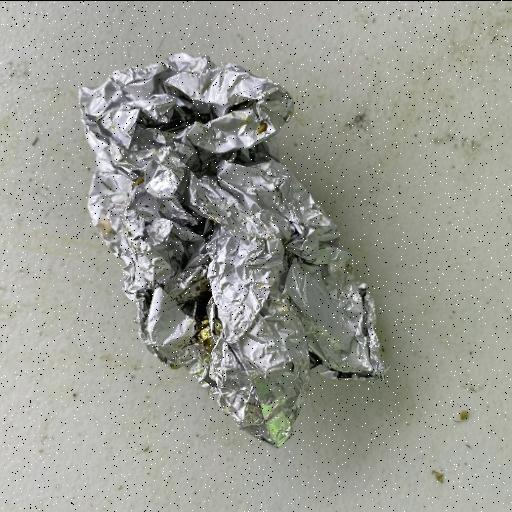Metal: (76, 50, 390, 448)
